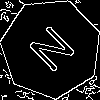N: (26, 23, 84, 82)
